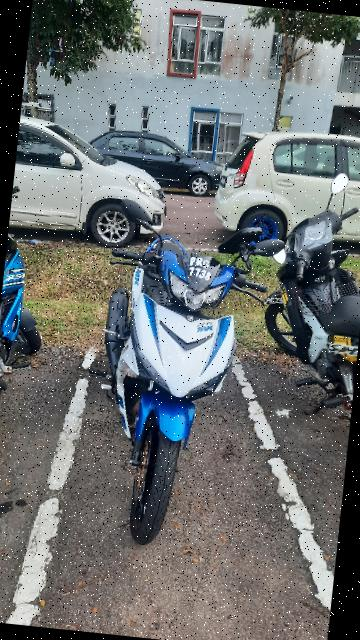License_Plate: (174, 249, 226, 289)
motorcycle: (66, 214, 272, 560)
